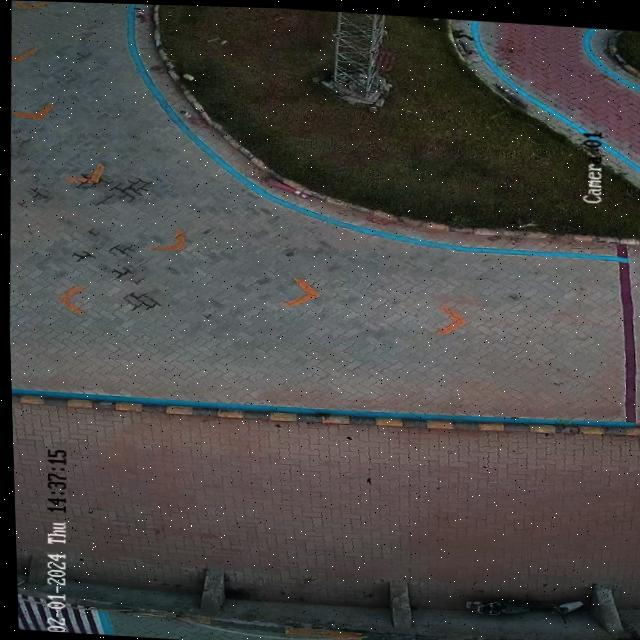No Car: (7, 0, 640, 640)
